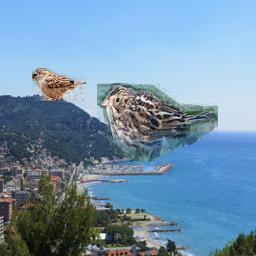Sparrow: (98, 84, 219, 163), (32, 69, 86, 102)
